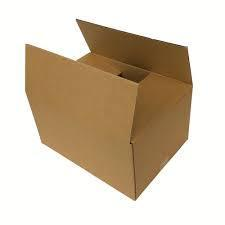box: (20, 19, 194, 202)
